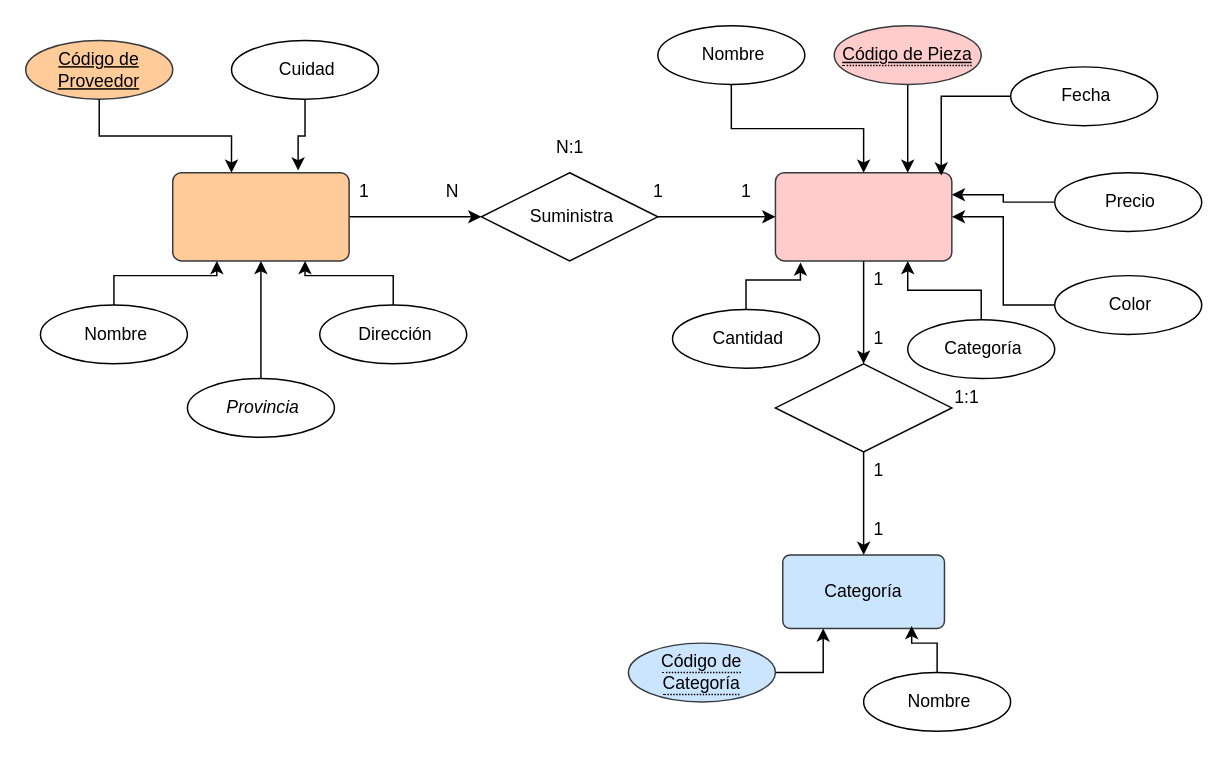
Some shapes in this 1227 by 757 pixel diagram are drawn without their labels. Here are the shapes that lost their labels. From the top down, the centre of each, then its label:
At pixel 260 216: "Proveedores".
At pixel 863 216: "Piezas".
At pixel 863 407: "Tiene".
